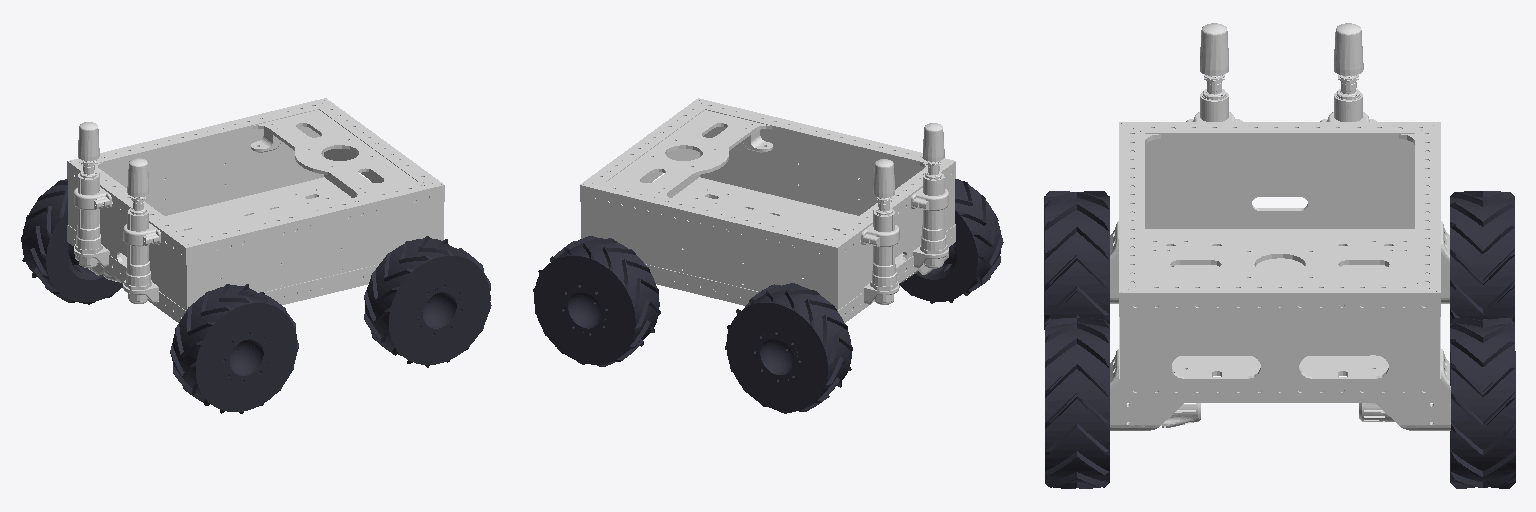
robot.urdf — testbed_description:
<?xml version="1.0" encoding="utf-8"?>
<!-- This URDF was automatically created by SolidWorks to URDF Exporter! Originally created by Stephen Brawner (brawner@gmail.com) 
     Commit Version:   Build Version: 1.6.9612.1828
     For more information, please see http://wiki.ros.org/sw_urdf_exporter -->
<robot
  name="testbed_description">

  <link name="base_link">
    <inertial>
      <origin
        xyz="0 0 0"
        rpy="0 0 0" />
      <mass
        value="0.001" />
      <inertia
        ixx="1e-6"
        ixy="0"
        ixz="0"
        iyy="1e-6"
        iyz="0"
        izz="1e-6" />
    </inertial>
  </link>

  <joint name="chassis_joint" type="fixed">
    <parent link="base_link"/>
    <child link="chassis_link"/>
    <origin xyz="0 0 0.15" rpy="0 0 3.142"/>
    <axis xyz="0 0 0"/>
  </joint>

  <link
    name="chassis_link">
    <inertial>
      <origin
        xyz="0.026945 -0.00024286 0.049165"
        rpy="0 0 0" />
      <mass
        value="4.7845" />
      <inertia
        ixx="0.044176"
        ixy="-7.6004E-07"
        ixz="6.3828E-07"
        iyy="0.068136"
        iyz="3.8348E-07"
        izz="0.1019" />
    </inertial>
    <visual>
      <origin
        xyz="0 0 0"
        rpy="0 0 0" />
      <geometry>
        <mesh
          filename="package://testbed_description/meshes/chassis_link.STL" />
      </geometry>
      <material
        name="">
        <color
          rgba="0.89412 0.89412 0.89412 1" />
      </material>
    </visual>
    <collision>
      <origin
        xyz="0 0 0"
        rpy="0 0 0" />
      <geometry>
        <mesh
          filename="package://testbed_description/meshes/chassis_link.STL" />
      </geometry>
    </collision>
  </link>
  <link
    name="fr_wheel_link">
    <inertial>
      <origin
        xyz="3.0025E-07 -4.2143E-07 -0.041517"
        rpy="0 0 0" />
      <mass
        value="2.1868" />
      <inertia
        ixx="0.006947"
        ixy="7.6914E-09"
        ixz="2.5464E-08"
        iyy="0.006947"
        iyz="-3.5564E-08"
        izz="0.011745" />
    </inertial>
    <visual>
      <origin
        xyz="0 0 0"
        rpy="0 0 0" />
      <geometry>
        <mesh
          filename="package://testbed_description/meshes/fr_wheel_link.STL" />
      </geometry>
      <material
        name="">
        <color
          rgba="0.25 0.25 0.3 1" />
      </material>
    </visual>
    <collision>
      <origin
        xyz="0 0 0"
        rpy="0 0 0" />
      <geometry>
        <mesh
          filename="package://testbed_description/meshes/fr_wheel_link.STL" />
      </geometry>
    </collision>
  </link>
  <joint
    name="fr_wheel_joint"
    type="continuous">
    <origin
      xyz="-0.18568 0.20975 -0.038044"
      rpy="1.5708 1.324 0" />
    <parent
      link="chassis_link" />
    <child
      link="fr_wheel_link" />
    <axis
      xyz="0 0 1" />
  </joint>
  <link
    name="fl_wheel_link">
    <inertial>
      <origin
        xyz="2.9785E-07 -4.1558E-07 -0.041517"
        rpy="0 0 0" />
      <mass
        value="2.1868" />
      <inertia
        ixx="0.006947"
        ixy="7.6931E-09"
        ixz="2.5353E-08"
        iyy="0.006947"
        iyz="-3.5299E-08"
        izz="0.011745" />
    </inertial>
    <visual>
      <origin
        xyz="0 0 0"
        rpy="0 0 0" />
      <geometry>
        <mesh
          filename="package://testbed_description/meshes/fl_wheel_link.STL" />
      </geometry>
      <material
        name="">
        <color
          rgba="0.25 0.25 0.3 1" />
      </material>
    </visual>
    <collision>
      <origin
        xyz="0 0 0"
        rpy="0 0 0" />
      <geometry>
        <mesh
          filename="package://testbed_description/meshes/fl_wheel_link.STL" />
      </geometry>
    </collision>
  </link>
  <joint
    name="fl_wheel_joint"
    type="continuous">
    <origin
      xyz="-0.18568 -0.20975 -0.038044"
      rpy="1.5708 -0.54692 3.1416" />
    <parent
      link="chassis_link" />
    <child
      link="fl_wheel_link" />
    <axis
      xyz="0 0 1" />
  </joint>
  <link
    name="br_wheel_link">
    <inertial>
      <origin
        xyz="2.9785E-07 -4.1558E-07 -0.041517"
        rpy="0 0 0" />
      <mass
        value="2.1868" />
      <inertia
        ixx="0.006947"
        ixy="7.6931E-09"
        ixz="2.5353E-08"
        iyy="0.006947"
        iyz="-3.5299E-08"
        izz="0.011745" />
    </inertial>
    <visual>
      <origin
        xyz="0 0 0"
        rpy="0 0 0" />
      <geometry>
        <mesh
          filename="package://testbed_description/meshes/br_wheel_link.STL" />
      </geometry>
      <material
        name="">
        <color
          rgba="0.25 0.25 0.3 1" />
      </material>
    </visual>
    <collision>
      <origin
        xyz="0 0 0"
        rpy="0 0 0" />
      <geometry>
        <mesh
          filename="package://testbed_description/meshes/br_wheel_link.STL" />
      </geometry>
    </collision>
  </link>
  <joint
    name="br_wheel_joint"
    type="continuous">
    <origin
      xyz="0.18568 0.20975 -0.038044"
      rpy="-1.5708 -0.6705 3.1416" />
    <parent
      link="chassis_link" />
    <child
      link="br_wheel_link" />
    <axis
      xyz="0 0 1" />
  </joint>
  <link
    name="bl_wheel_link">
    <inertial>
      <origin
        xyz="0 0 0"
        rpy="0 0 0" />
      <mass
        value="2.1868" />
      <inertia
        ixx="0"
        ixy="0"
        ixz="0"
        iyy="0"
        iyz="0"
        izz="0" />
    </inertial>
    <visual>
      <origin
        xyz="0 0 0"
        rpy="0 0 0" />
      <geometry>
        <mesh
          filename="package://testbed_description/meshes/bl_wheel_link.STL" />
      </geometry>
      <material
        name="">
        <color
          rgba="0.25 0.25 0.3 1" />
      </material>
    </visual>
    <collision>
      <origin
        xyz="0 0 0"
        rpy="0 0 0" />
      <geometry>
        <mesh
          filename="package://testbed_description/meshes/bl_wheel_link.STL" />
      </geometry>
    </collision>
  </link>
  <joint
    name="bl_wheel_joint"
    type="continuous">
    <origin
      xyz="0.185046620000001 -0.209754935661732 -0.038044120000001"
      rpy="1.5707963267949 0.0380553768032791 -3.14159265358979" />
    <parent
      link="chassis_link" />
    <child
      link="bl_wheel_link" />
    <axis
      xyz="0 0 1" />
  </joint>
</robot>

--- Render facts (derived) ---
Views: 3 orthographic renders of the robot side by side, from view 1: azimuth 30°, elevation 25°; view 2: azimuth 150°, elevation 25°; view 3: azimuth 270°, elevation 25°.
Model testbed_description with 6 links and 5 joints (4 continuous, 1 fixed), rooted at base_link, posed every joint at zero.
Links seen in each view (by area): view 1: chassis_link, br_wheel_link, fr_wheel_link, bl_wheel_link; view 2: chassis_link, fl_wheel_link, bl_wheel_link, br_wheel_link; view 3: chassis_link, fl_wheel_link, fr_wheel_link, br_wheel_link, bl_wheel_link.
Link boxes in pixels (x1,y1,x2,y2): chassis_link: (67,98,444,322); br_wheel_link: (170,284,298,413); fr_wheel_link: (364,236,491,367); bl_wheel_link: (21,179,122,304); chassis_link: (580,98,955,322); fl_wheel_link: (533,236,660,366); bl_wheel_link: (725,283,852,413); br_wheel_link: (899,179,1003,303); chassis_link: (1110,23,1450,430); fl_wheel_link: (1450,318,1515,488); fr_wheel_link: (1045,318,1109,488); br_wheel_link: (1044,191,1109,329); bl_wheel_link: (1450,191,1514,323).
Size in the robot's own frame: 0.5892 by 0.5797 by 0.4038 metres.
5 mesh visuals loaded from 5 distinct referenced files (5 binary STL).
